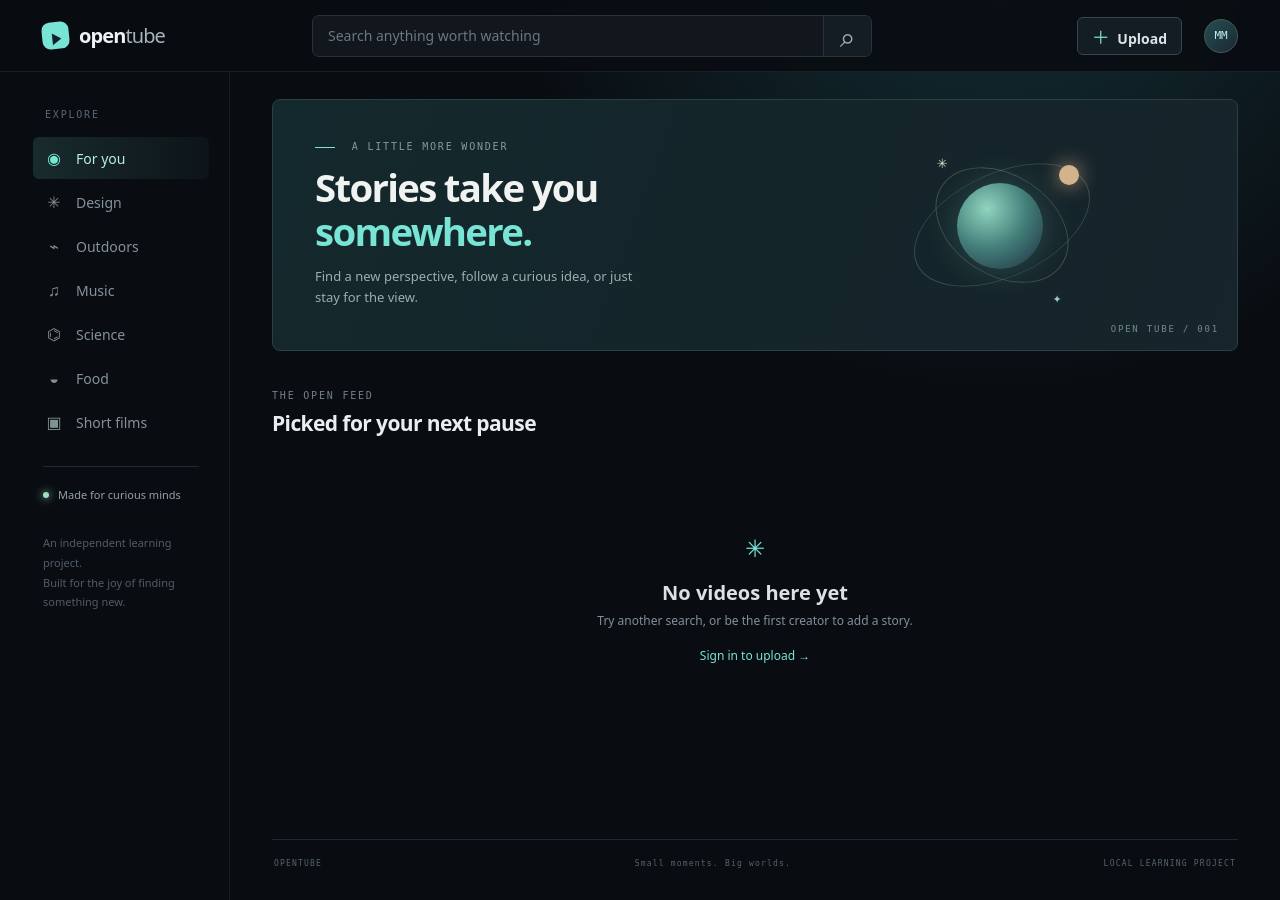
Test: OpenTube feed and creator flows › shows an empty feed and opens the creator sign-in dialog
Expected: the element with class "empty-state" shows "No videos here yet", x1=662 y1=579 x2=848 y2=606
Click the button "Sign in to upload →" at (755, 656), box x1=682 y1=629 x2=828 y2=682
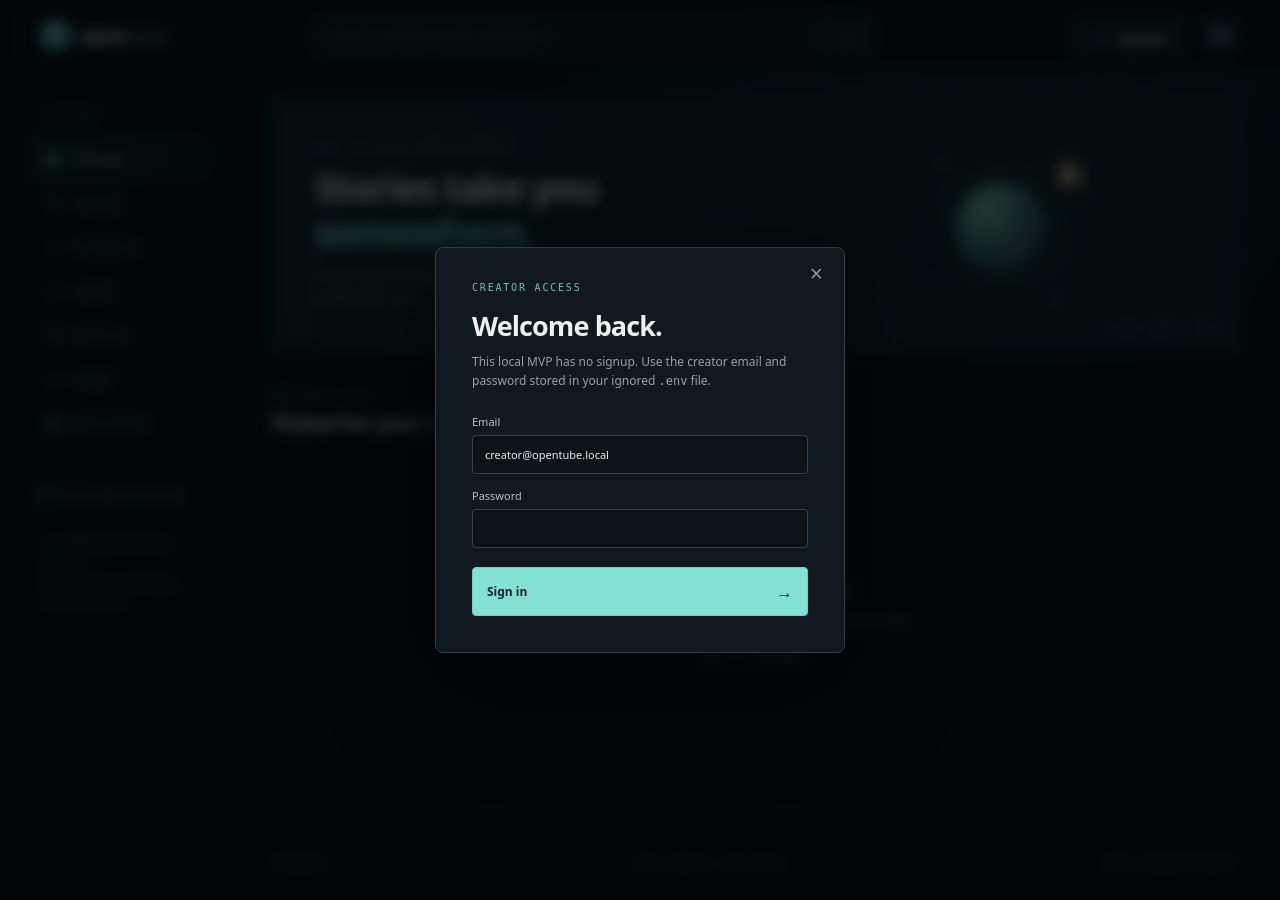
Result: the dialog shows "This local MVP has no signup" at x1=472 y1=353 x2=786 y2=389
Result: the field labelled "Email" holds "creator@opentube.local" at x1=472 y1=435 x2=808 y2=474
